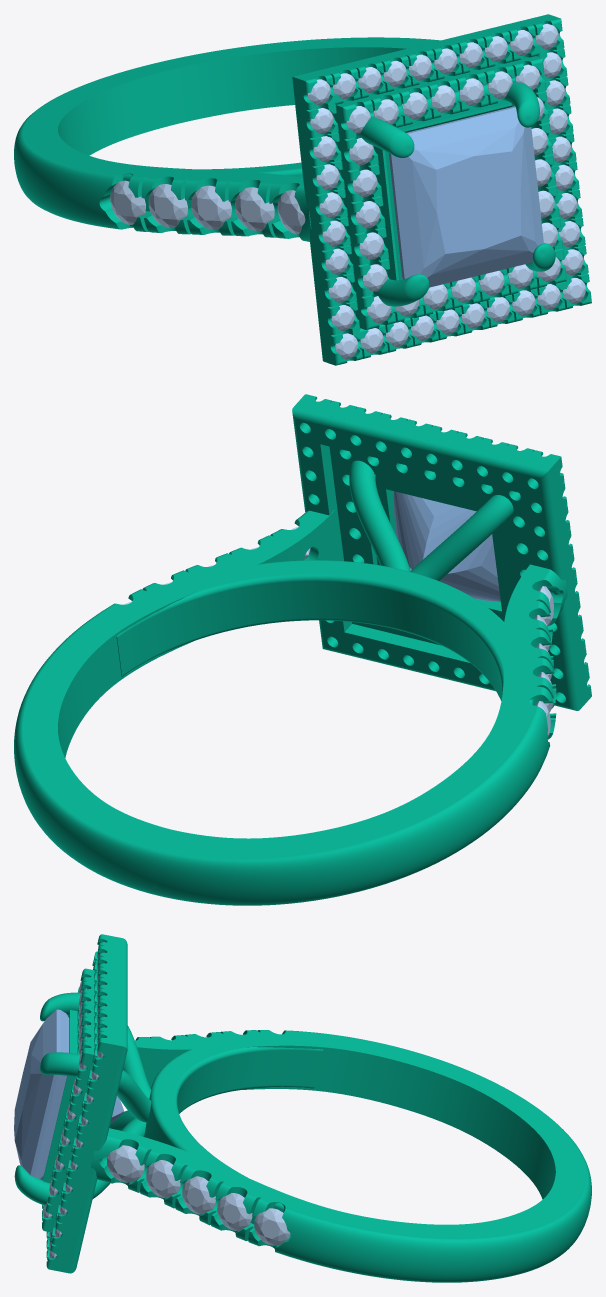
3 renders of one model, top to bottom at view 1: azimuth 30°, elevation 25°; view 2: azimuth 150°, elevation 25°; view 3: azimuth 270°, elevation 25°, orthographic. The views are drawn at different scales.
Visible parts, largest first — view 1: JTC 10632(base).3dm, Diamond_Princess, Diamond_Round (×17); view 2: JTC 10632(base).3dm, Diamond_Princess; view 3: JTC 10632(base).3dm, Diamond_Princess, Diamond_Round (×5).
Boxes of the visible parts, box(x1,y1,x2,y2) form: JTC 10632(base).3dm: box(14, 14, 591, 365); Diamond_Princess: box(389, 106, 543, 287); Diamond_Round (×17): box(110, 71, 512, 309); JTC 10632(base).3dm: box(14, 394, 591, 905); Diamond_Princess: box(393, 491, 500, 601); JTC 10632(base).3dm: box(14, 934, 591, 1282); Diamond_Princess: box(14, 1009, 123, 1179); Diamond_Round (×5): box(107, 1145, 290, 1245).
Size of the model in its own units: 2.38 by 1.3 by 2.94.
